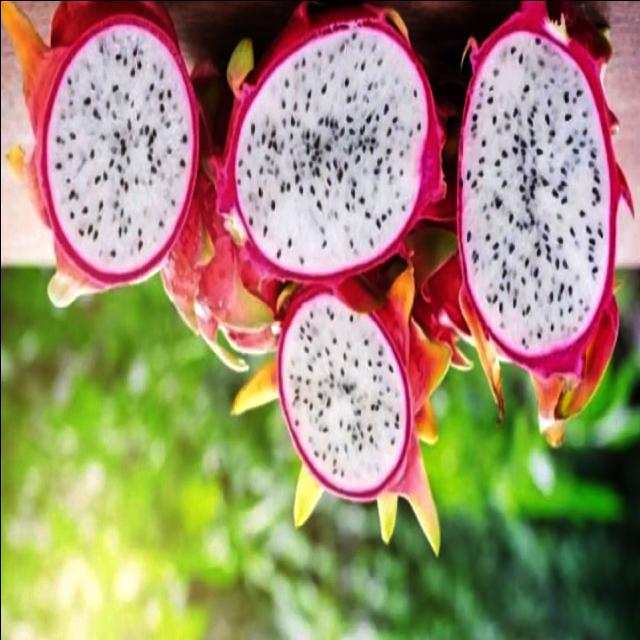trang: (456, 1, 632, 420), (216, 2, 449, 292), (233, 271, 447, 559), (0, 1, 198, 293)
